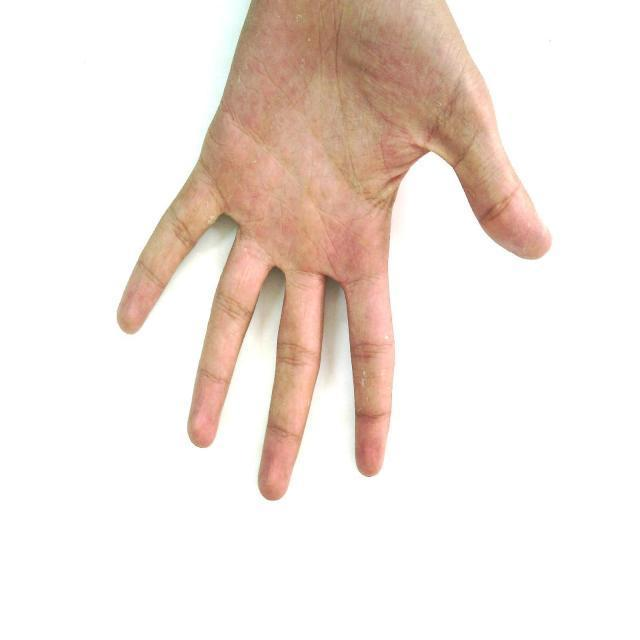hand: (115, 0, 552, 501)
